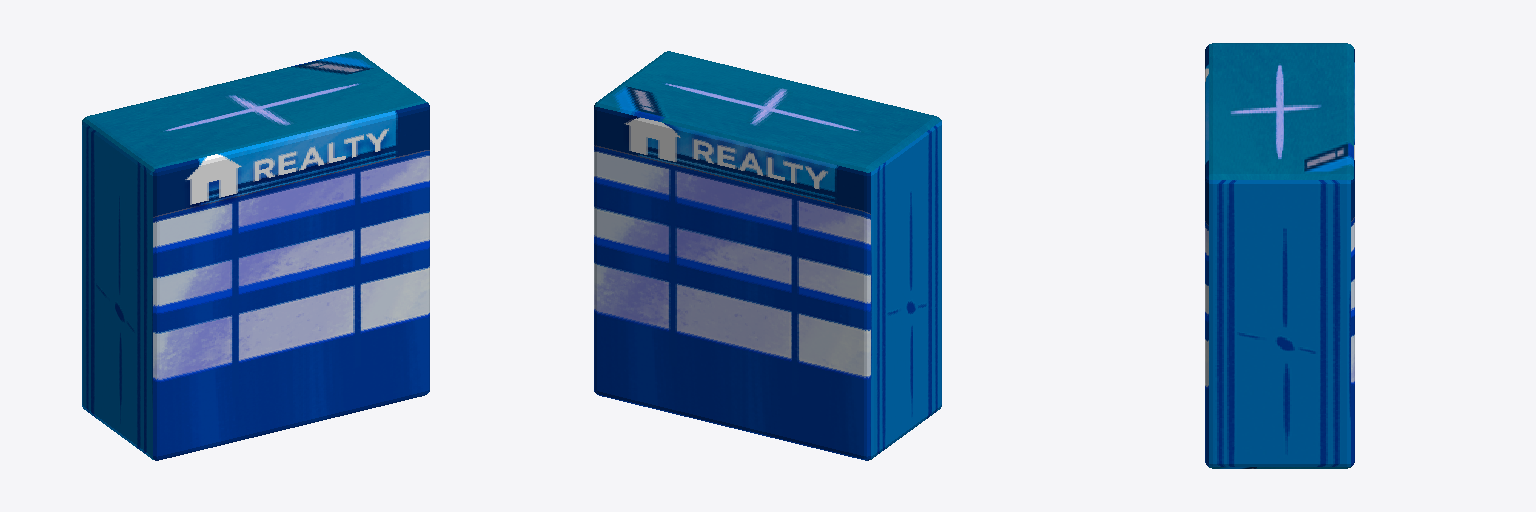
3 views of the same model, side by side, from view 1: azimuth 30°, elevation 25°; view 2: azimuth 150°, elevation 25°; view 3: azimuth 270°, elevation 25° (orthographic).
Parts seen in each view (by area): view 1: pCube3; view 2: pCube3; view 3: pCube3.
Part boxes in pixels (left/top/right/bottom): pCube3: left=82, top=51, right=429, bottom=460; pCube3: left=594, top=51, right=941, bottom=460; pCube3: left=1205, top=43, right=1354, bottom=468.
Bounding box in the file's own units: 1.05 × 1.05 × 0.4857.
Materials: 1 (1 with a texture image).